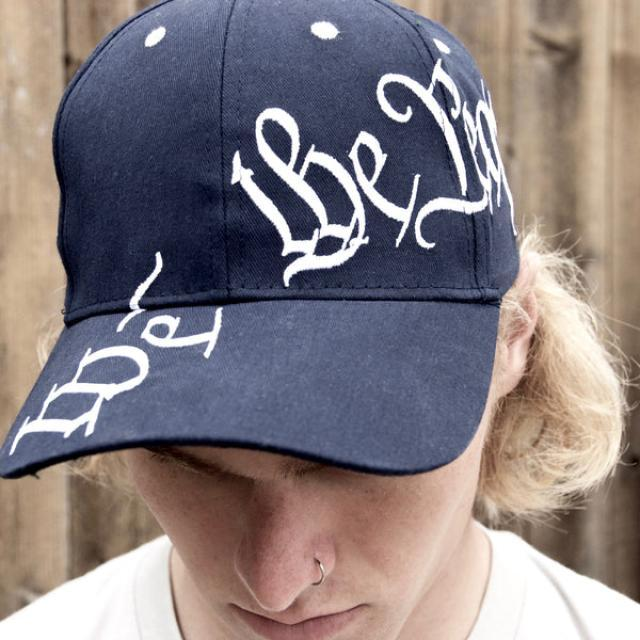hat: (10, 0, 521, 483)
